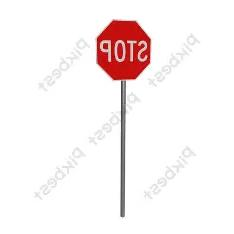Stop: (97, 20, 151, 80)
